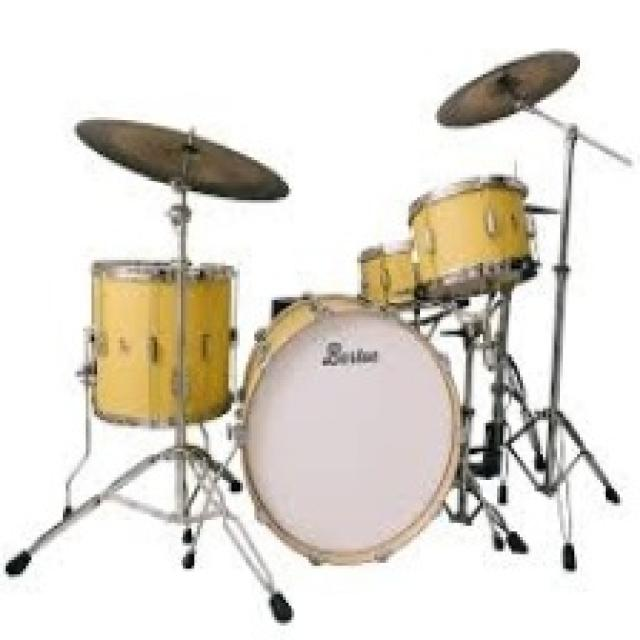drums: (33, 48, 627, 624)
